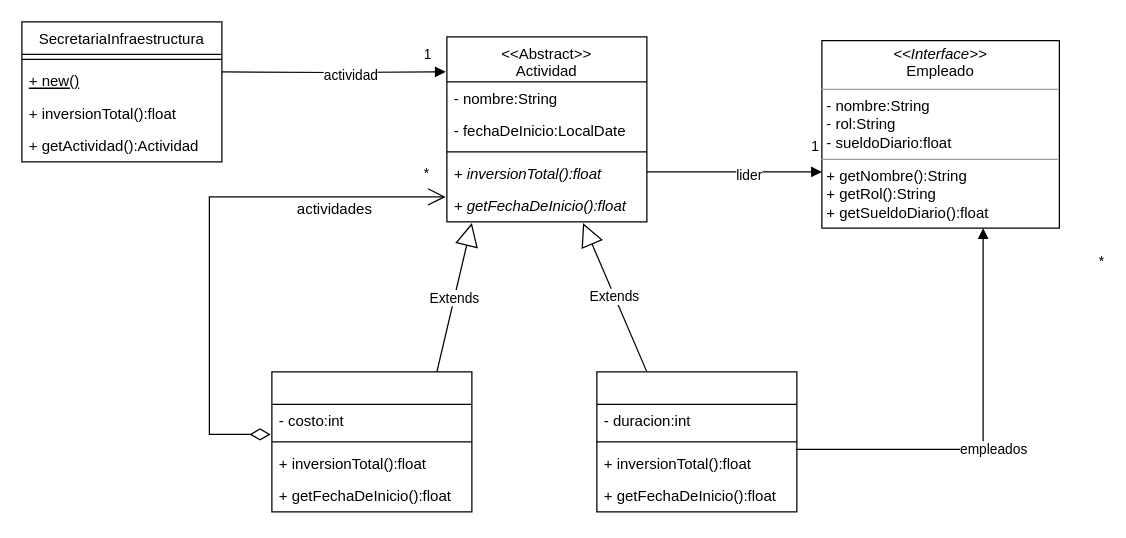
This 1126x538 diagram has some shape labels left out. The shapes that lost their labels are listed below. From the top down, each one's box as (x1, y1, x2, y2) in pixels, then its label:
(271, 371, 472, 512): Programa
(596, 371, 797, 512): Proyecto
